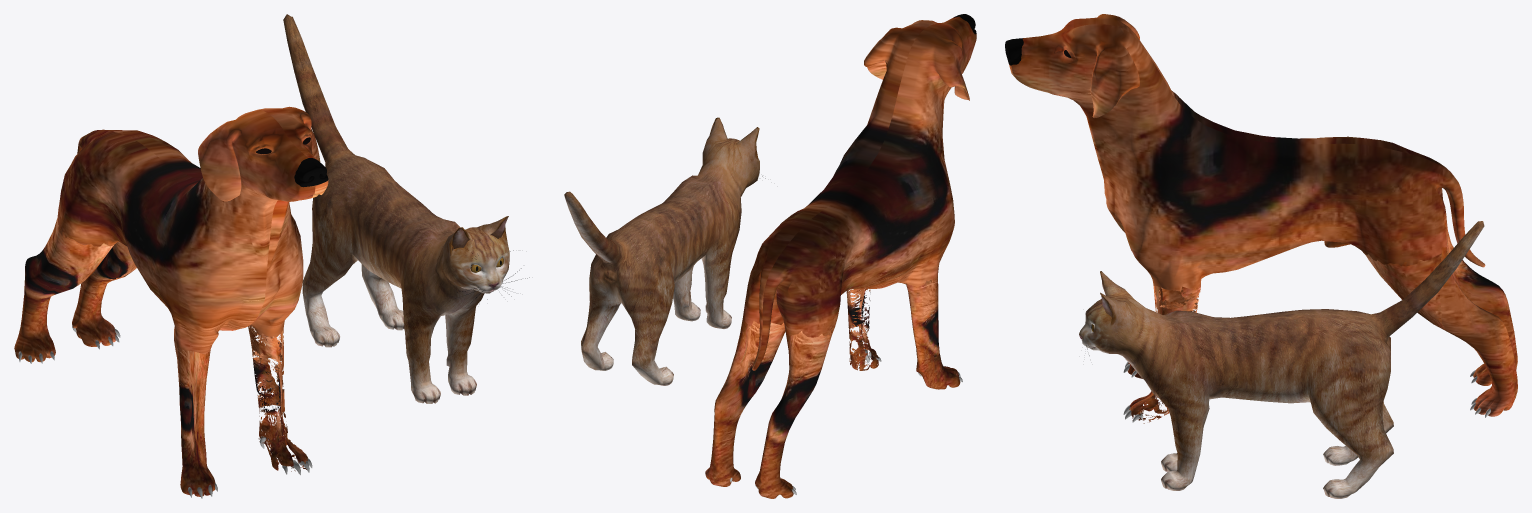
The model's file is cat-vs-dog.obj.
3 renders of one model, left to right at view 1: azimuth 30°, elevation 25°; view 2: azimuth 150°, elevation 25°; view 3: azimuth 270°, elevation 25°, orthographic. The views are drawn at different scales.
Visible parts, largest first — view 1: Dog_0.005, cat_obj_1, Dog_0.003, Dog_0.007, Dog_0.001, Dog_0, Dog_0.002, Dog_0.004, Paws_1; view 2: Dog_0.005, cat_obj_1, Dog_0.003, Dog_0.002, Dog_0.007, Dog_0.001, Dog_0; view 3: Dog_0.003, cat_obj_1, Dog_0.002, Dog_0.005, Dog_0.007, Dog_0.
Boxes of the visible parts, x1,y1,x2,y2 form: Dog_0.005: [58, 109, 315, 354]; cat_obj_1: [283, 14, 529, 403]; Dog_0.003: [104, 106, 328, 336]; Dog_0.007: [14, 212, 113, 362]; Dog_0.001: [174, 338, 215, 496]; Dog_0: [248, 325, 307, 471]; Dog_0.002: [72, 241, 136, 346]; Dog_0.004: [294, 158, 328, 187]; Paws_1: [18, 326, 312, 498]; Dog_0.005: [753, 16, 976, 370]; cat_obj_1: [564, 117, 765, 385]; Dog_0.003: [742, 16, 958, 370]; Dog_0.002: [705, 318, 785, 486]; Dog_0.007: [755, 329, 833, 498]; Dog_0.001: [906, 277, 960, 389]; Dog_0: [846, 288, 878, 370]; Dog_0.003: [1009, 24, 1485, 291]; cat_obj_1: [1079, 221, 1484, 498]; Dog_0.002: [1365, 247, 1517, 416]; Dog_0.005: [1023, 14, 1484, 263]; Dog_0.007: [1444, 220, 1517, 385]; Dog_0: [1129, 283, 1200, 423].
Bounding box in the file's own units: 3551 × 3981 × 4992.
Materials: 10 (7 with a texture image).
